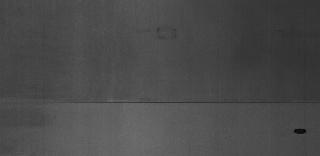punching hole: (288, 127, 310, 137)
welding line: (4, 97, 320, 111)
